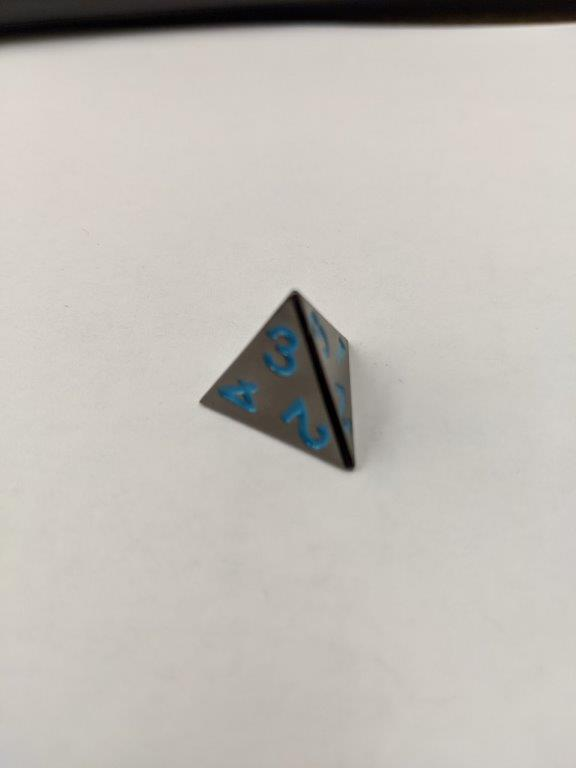d4-3: (199, 288, 362, 479)
